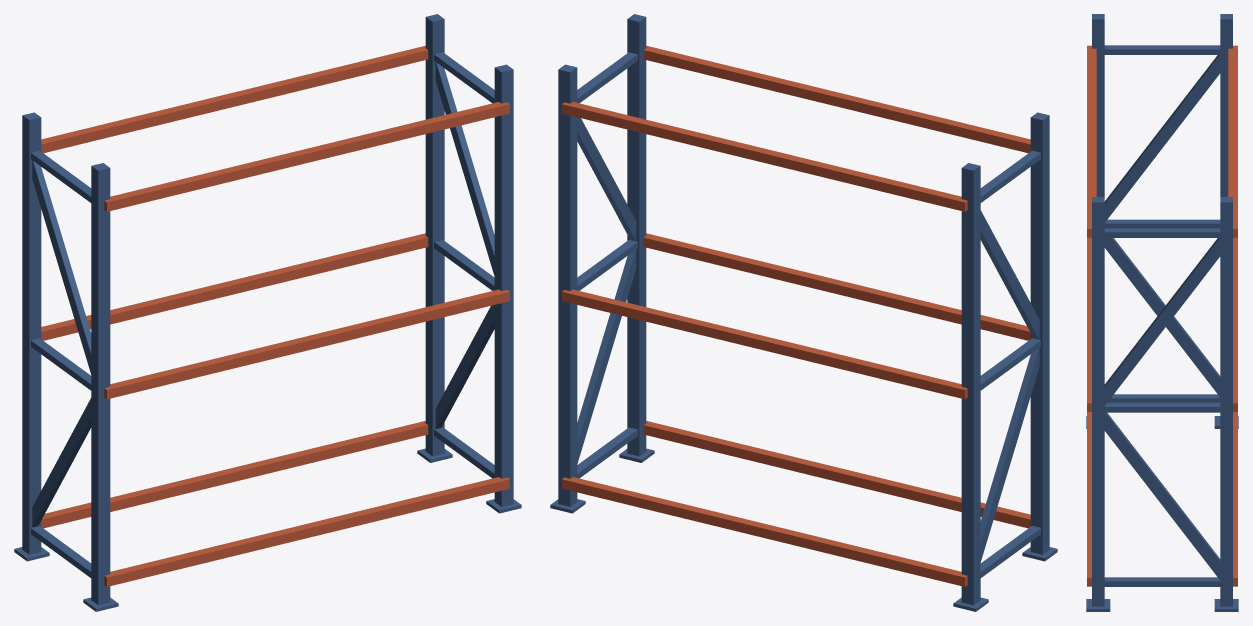
The model's file is SM_Props_Interior_Generic_Warehouse_Rack.fbx.
The picture shows the model from 3 angles, left to right: view 1: azimuth 30°, elevation 25°; view 2: azimuth 150°, elevation 25°; view 3: azimuth 270°, elevation 25°; orthographic projection. The views are drawn at different scales.
Visible parts, largest first — view 1: SM_Props_Interior_Generic_Warehouse_Rack; view 2: SM_Props_Interior_Generic_Warehouse_Rack; view 3: SM_Props_Interior_Generic_Warehouse_Rack.
Part boxes in pixels (bbox=[...]): SM_Props_Interior_Generic_Warehouse_Rack: bbox=[14, 14, 521, 611]; SM_Props_Interior_Generic_Warehouse_Rack: bbox=[550, 14, 1057, 611]; SM_Props_Interior_Generic_Warehouse_Rack: bbox=[1086, 14, 1238, 611].
Bounding box in the file's own units: 285 × 280 × 95.
